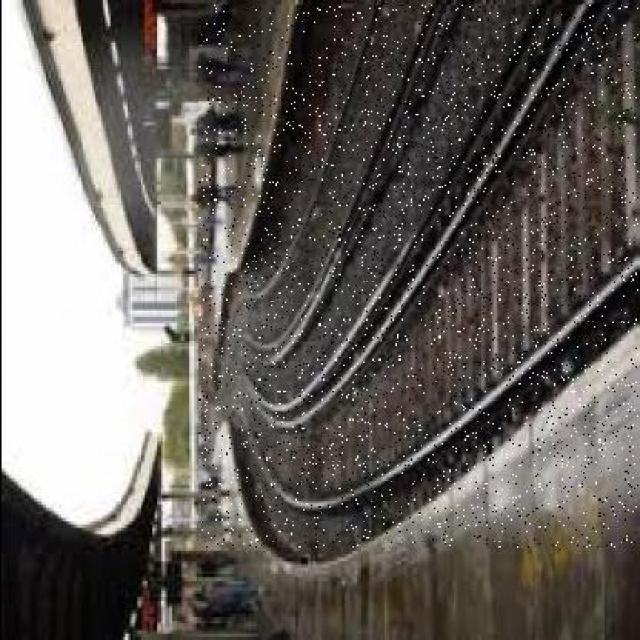rail: (198, 5, 637, 548)
